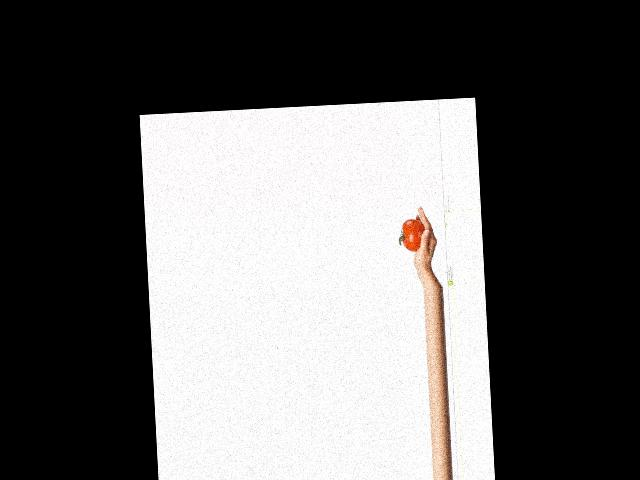tomato: (401, 218, 425, 251)
